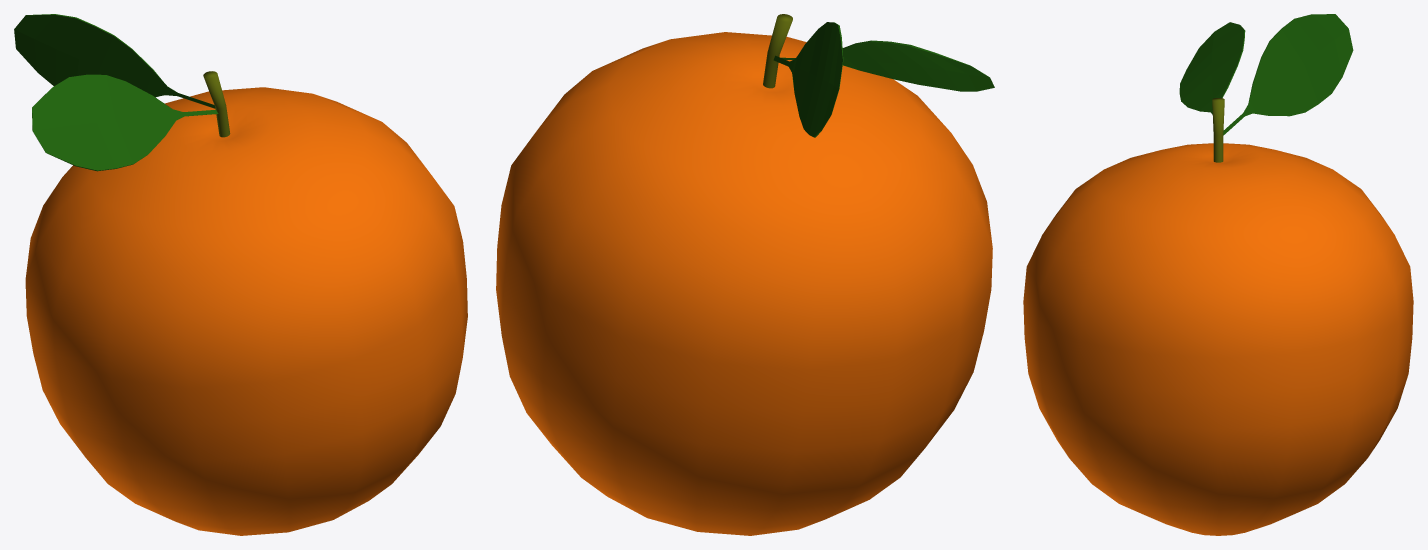
Rendered from Orange.fbx.
3 views of the same model, side by side, from view 1: azimuth 30°, elevation 25°; view 2: azimuth 150°, elevation 25°; view 3: azimuth 270°, elevation 25° (orthographic). The views are drawn at different scales.
Parts seen in each view (by area): view 1: Orange; view 2: Orange; view 3: Orange.
Boxes of the visible parts, x1,y1,x2,y2 form: Orange: [14, 14, 467, 535]; Orange: [496, 14, 994, 535]; Orange: [1023, 14, 1413, 535].
Size of the model in its own units: 363 by 429 by 339.
